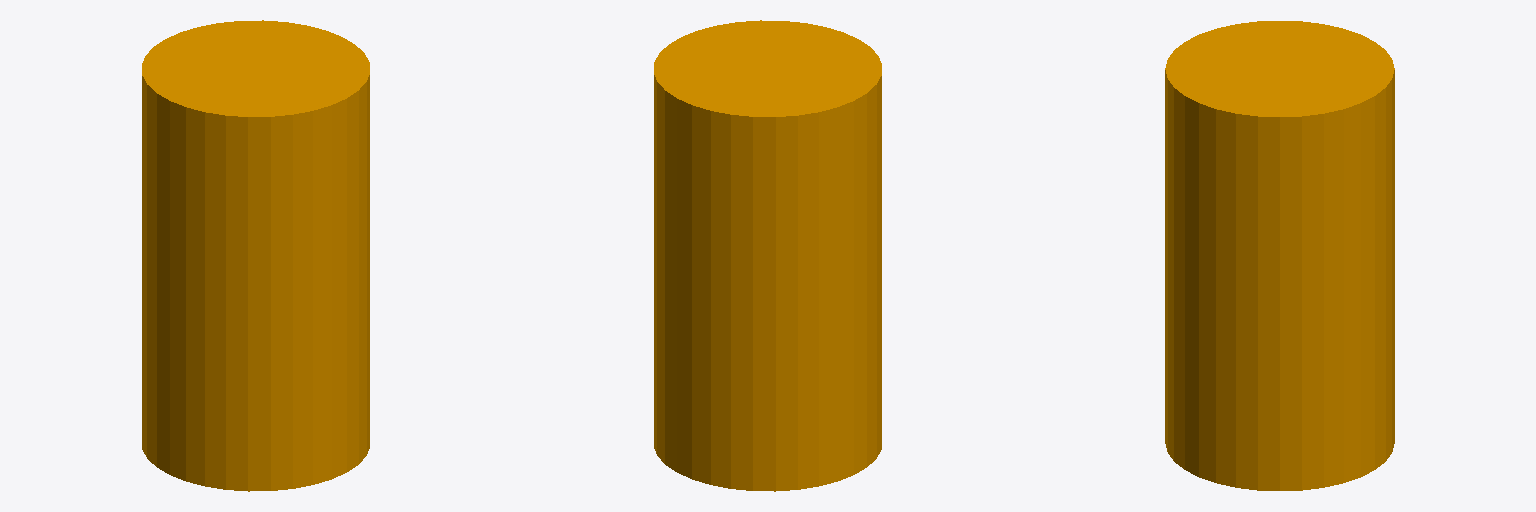
robot.urdf — upright_cup:
<robot name="upright_cup">

  <material name="Wood">
    <color rgba="0.827 0.675 0.463 1.0"/>
  </material>
  <material name="Red">
    <color rgba="1, 0, 0, 1.0"/>
  </material>
  <material name="Green">
    <color rgba="0, 1, 0, 1.0"/>
  </material>

  <link name="bottom_seg">
    <inertial>
      <mass value="20.0" />
      <origin xyz="0 0 -1.0" /> 
      <inertia  ixx="2" ixy="0.0"  ixz="0.0"  iyy="2"  iyz="0.0"  izz="2" />
    </inertial>
    <visual>
      <origin xyz="0 0 -0.055" rpy="0 0 0" />
      <geometry>
        <cylinder radius="0.05" length="0.18"/>
      </geometry>
      <material name="Red"/>
    </visual>
    <collision>
      <origin xyz="0 0 -0.055" rpy="0 0 0" />
      <geometry>
        <cylinder radius="0.05" length="0.18"/>
      </geometry>
    </collision>
  </link>



</robot>

--- What the picture shows (computed from the rendered views, not written in the file) ---
Views: 3 orthographic renders of the robot side by side, from view 1: azimuth 30°, elevation 25°; view 2: azimuth 150°, elevation 25°; view 3: azimuth 270°, elevation 25°.
Model upright_cup with 1 links and 0 joints (none), rooted at bottom_seg, posed every joint at zero.
Visible links, largest first — view 1: bottom_seg; view 2: bottom_seg; view 3: bottom_seg.
Link boxes in pixels (bbox=[...]): bottom_seg: bbox=[142, 20, 369, 491]; bottom_seg: bbox=[654, 20, 881, 491]; bottom_seg: bbox=[1165, 21, 1394, 490].
Bounding box of the posed robot: 0.1 × 0.1 × 0.18 m (x, y, z).
Geometry: primitives only (box / cylinder / sphere), no mesh files.
